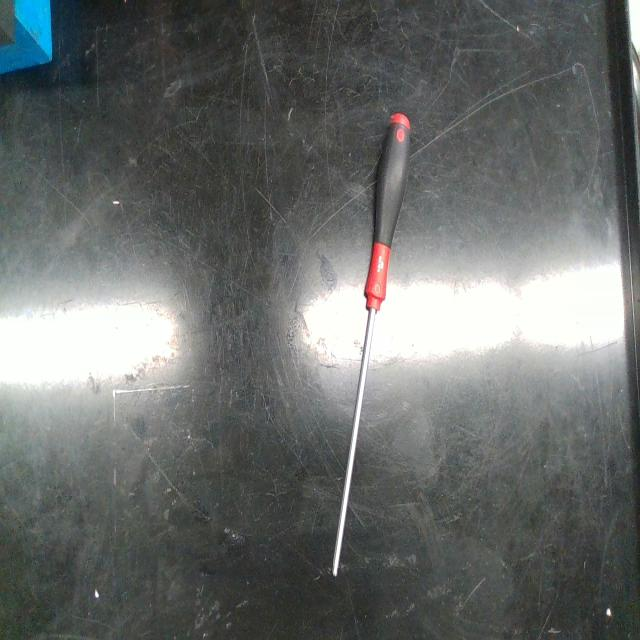Screwdriver: (332, 113, 411, 574)
